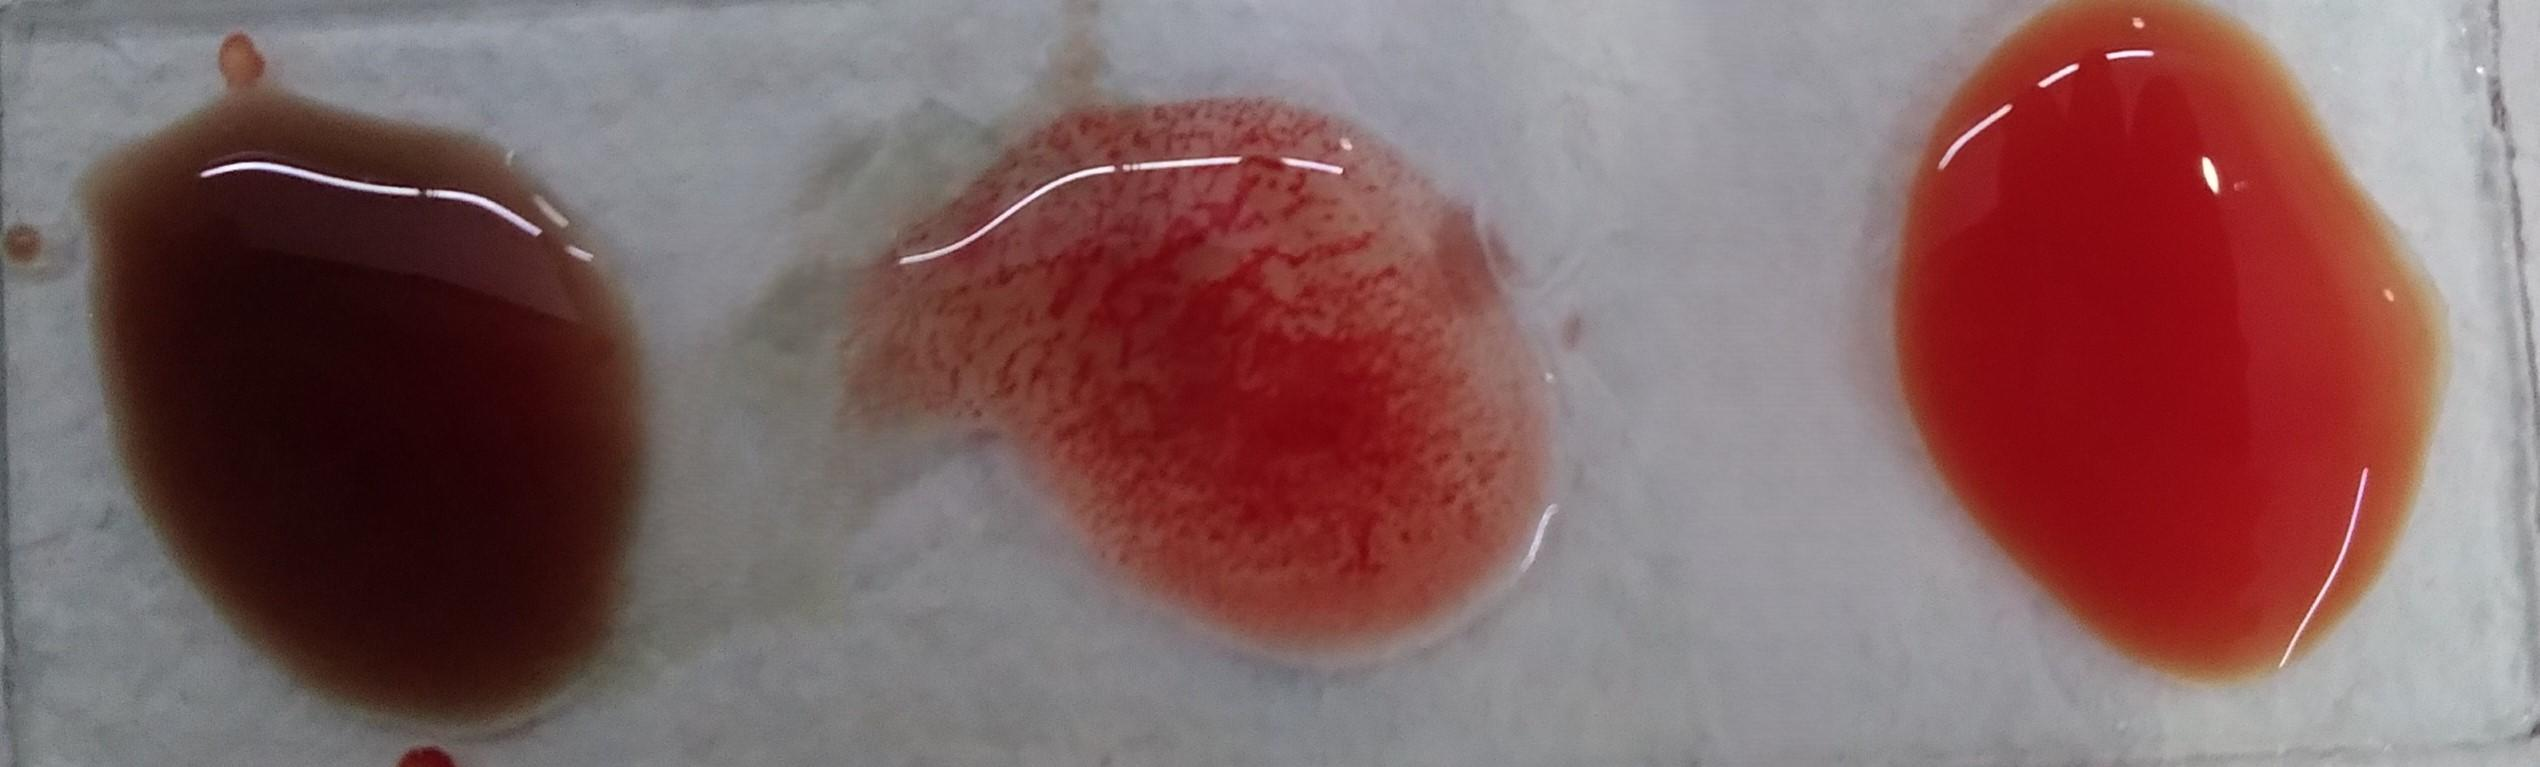D: (956, 115, 1547, 668)
